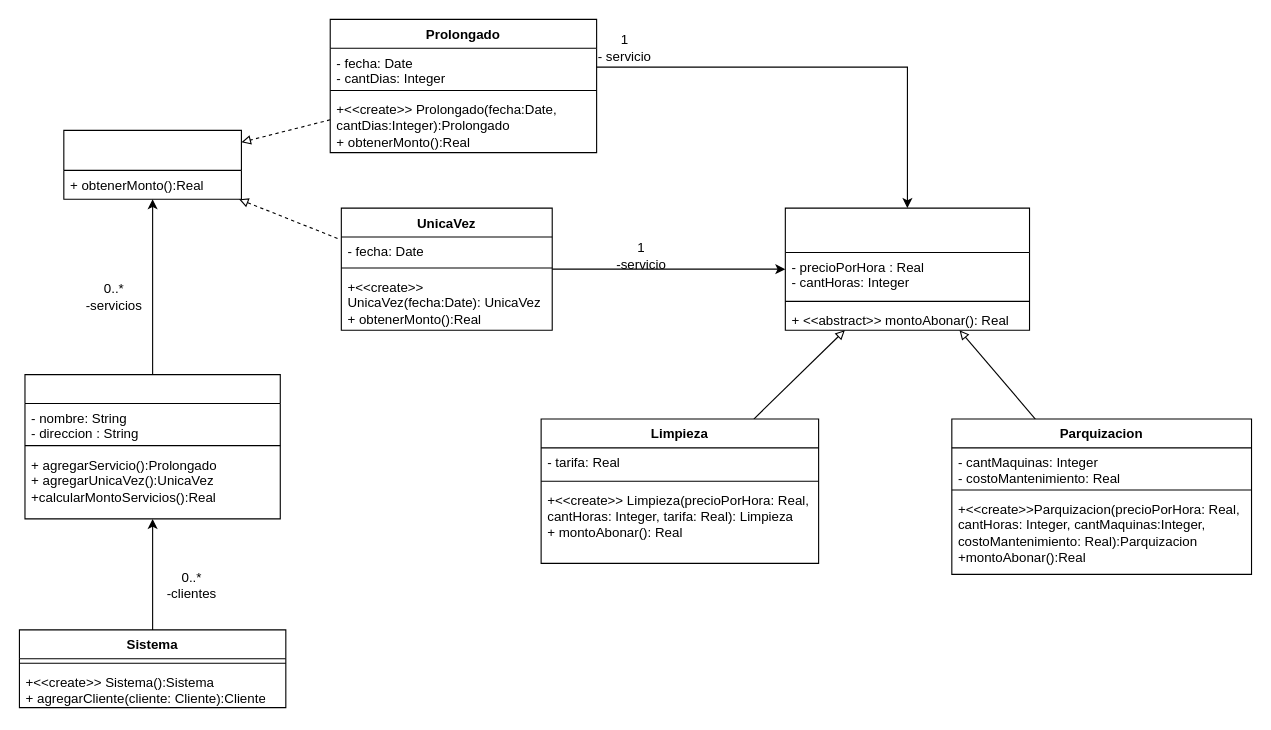
Some shapes in this 1271 by 730 pixel diagram are drawn without their labels. Here are the shapes that lost their labels. From the top down, the box of each, then its label:
(63, 129, 241, 199): <<interface>> Servicio
(784, 207, 1030, 330): <<abstract>> TipoServicio
(24, 374, 280, 519): Cliente
